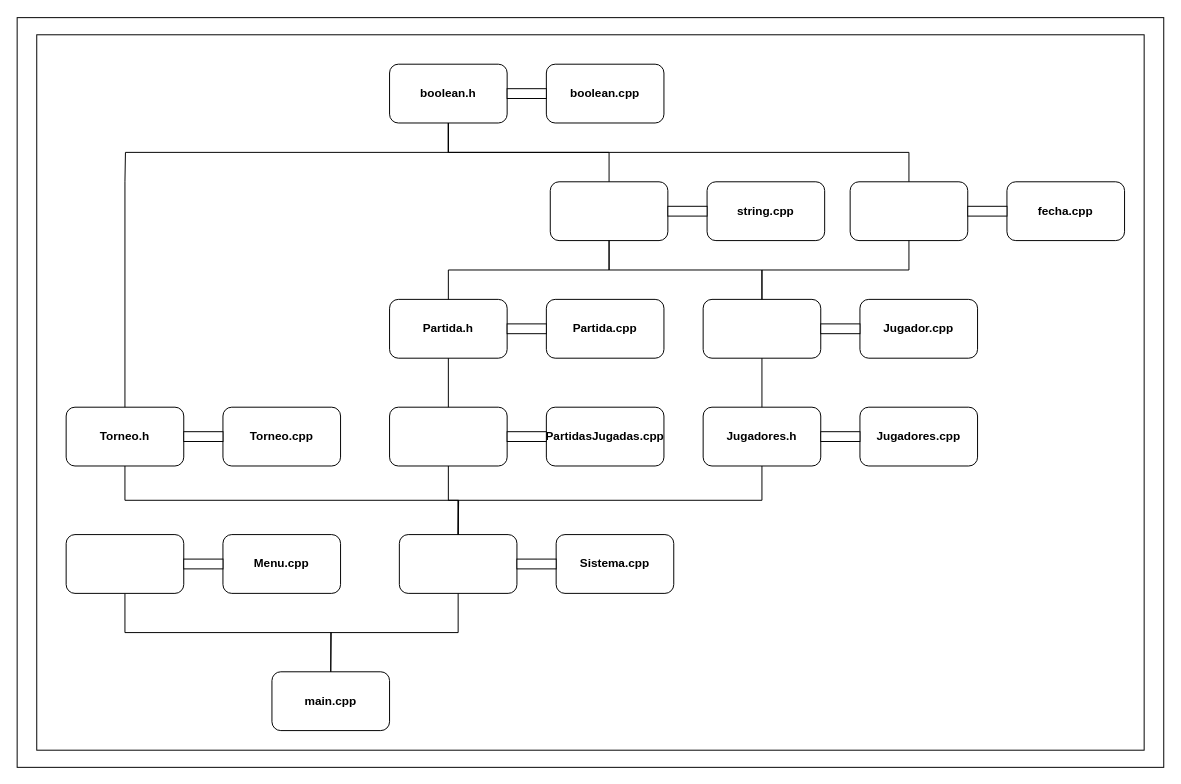
Image size: 1181x784. Some labels were removed from this diagram. Here are the shapes that lost their labels. From the top down, the centre of each, then its label:
At [608,211]: "string.h".
At [908,211]: "fecha.h".
At [761,328]: "Jugador.h".
At [448,436]: "PartidasJugadas.h".
At [124,563]: "Menu.h".
At [457,563]: "Sistema.h".
